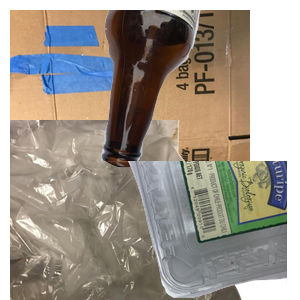cardboard: (10, 10, 250, 190)
glass: (99, 10, 300, 170)
plastic: (60, 161, 300, 300)
trash: (10, 120, 244, 300)
